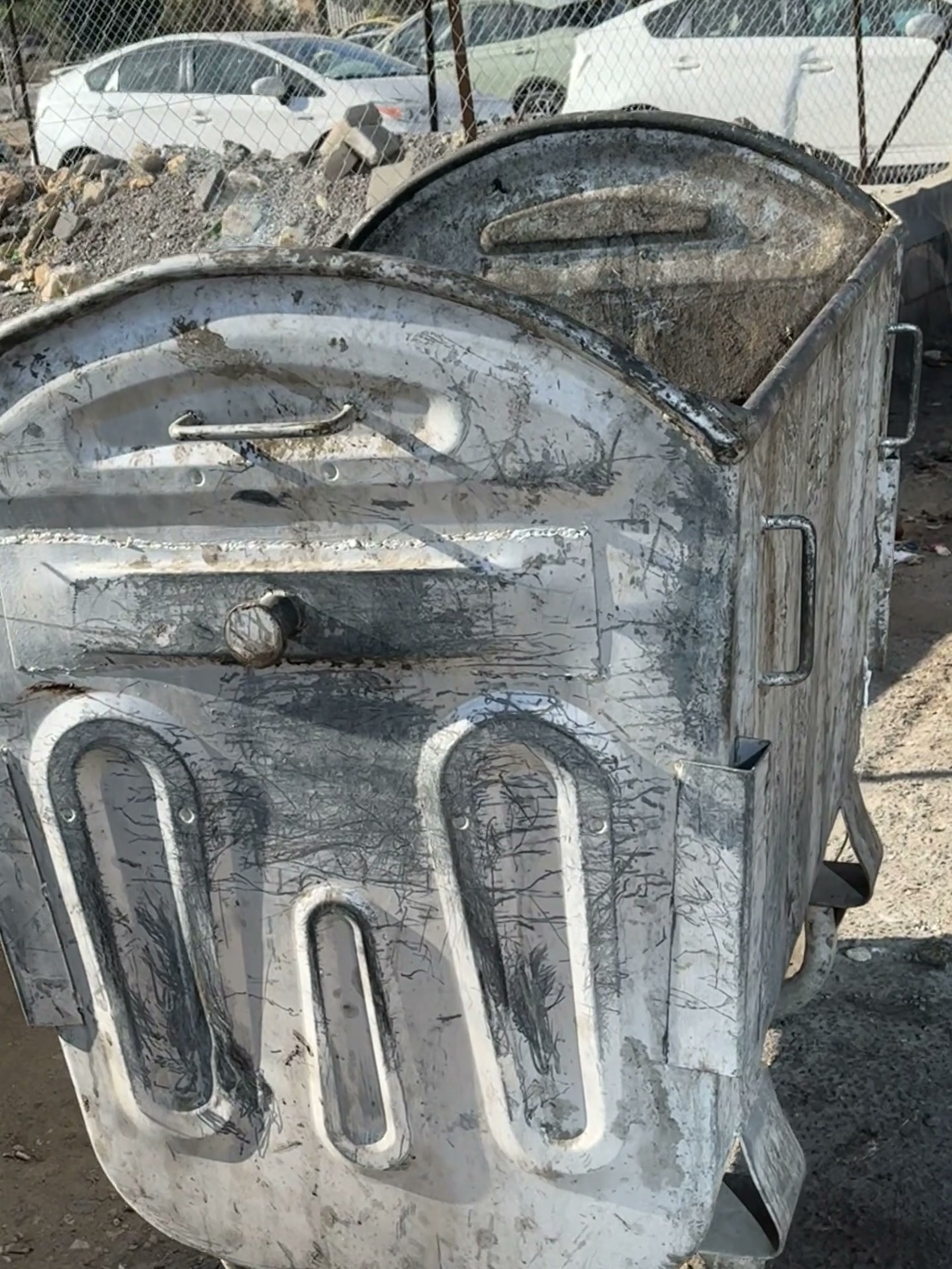trash_container: (22, 79, 863, 1255)
